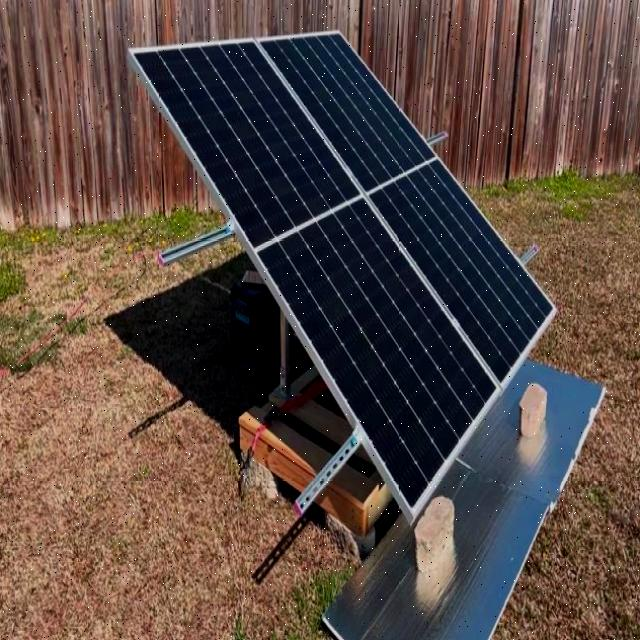Normal Solar Panel: (129, 32, 555, 514)
